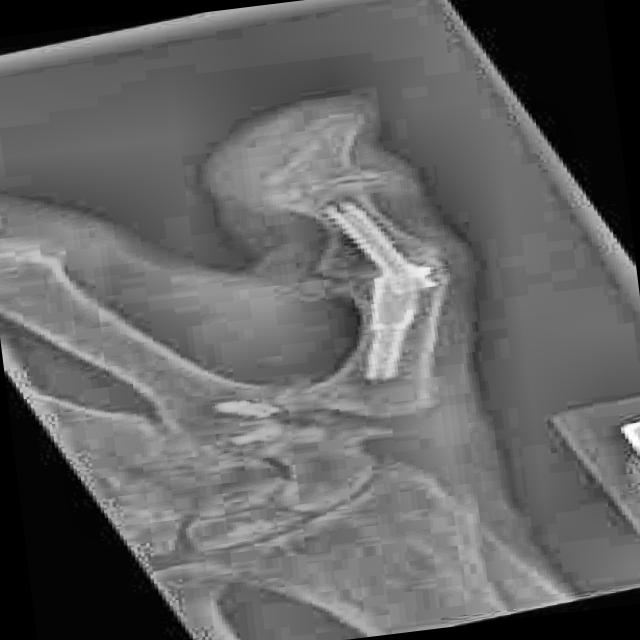fingers positive: (245, 154, 358, 224)
